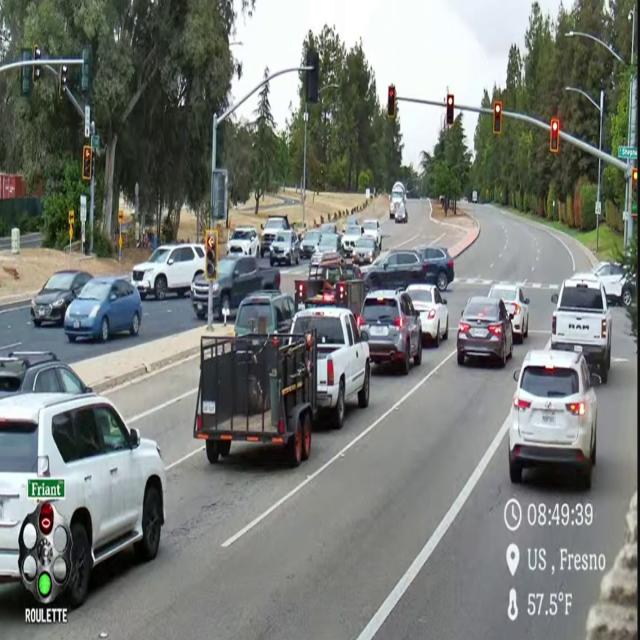car: (0, 394, 166, 607), (509, 351, 600, 487), (357, 290, 422, 375), (64, 277, 142, 342), (0, 352, 91, 398), (131, 244, 205, 300), (457, 296, 513, 367), (31, 271, 92, 327), (235, 291, 295, 336), (365, 249, 427, 290), (406, 285, 448, 345), (489, 284, 529, 343), (593, 262, 632, 306), (416, 246, 454, 291), (269, 229, 299, 266), (227, 227, 259, 257), (311, 234, 341, 263), (352, 235, 379, 264), (300, 228, 322, 258), (342, 225, 363, 255), (362, 220, 381, 248), (394, 203, 408, 223), (320, 223, 339, 235), (345, 216, 360, 227)
traffic signal: (204, 229, 218, 282), (306, 49, 319, 103), (81, 46, 91, 92), (39, 503, 53, 535), (20, 65, 32, 96), (82, 145, 92, 181), (550, 119, 559, 153), (387, 85, 396, 119), (493, 101, 502, 135), (59, 65, 68, 98), (446, 95, 454, 126), (32, 64, 41, 82), (632, 168, 637, 186)
truck: (193, 333, 317, 467), (292, 308, 370, 429), (550, 273, 611, 383), (295, 254, 365, 315), (213, 256, 280, 319), (295, 280, 365, 316), (260, 216, 291, 257), (390, 182, 405, 219)
